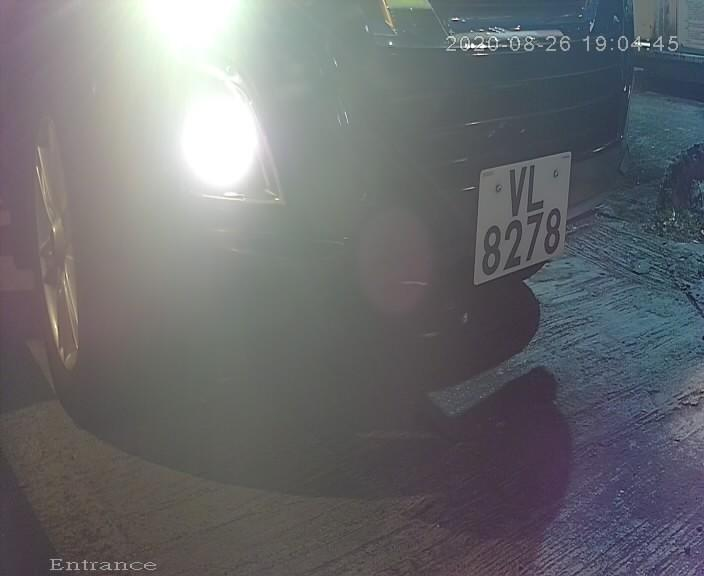License Plate: (463, 132, 576, 301)
